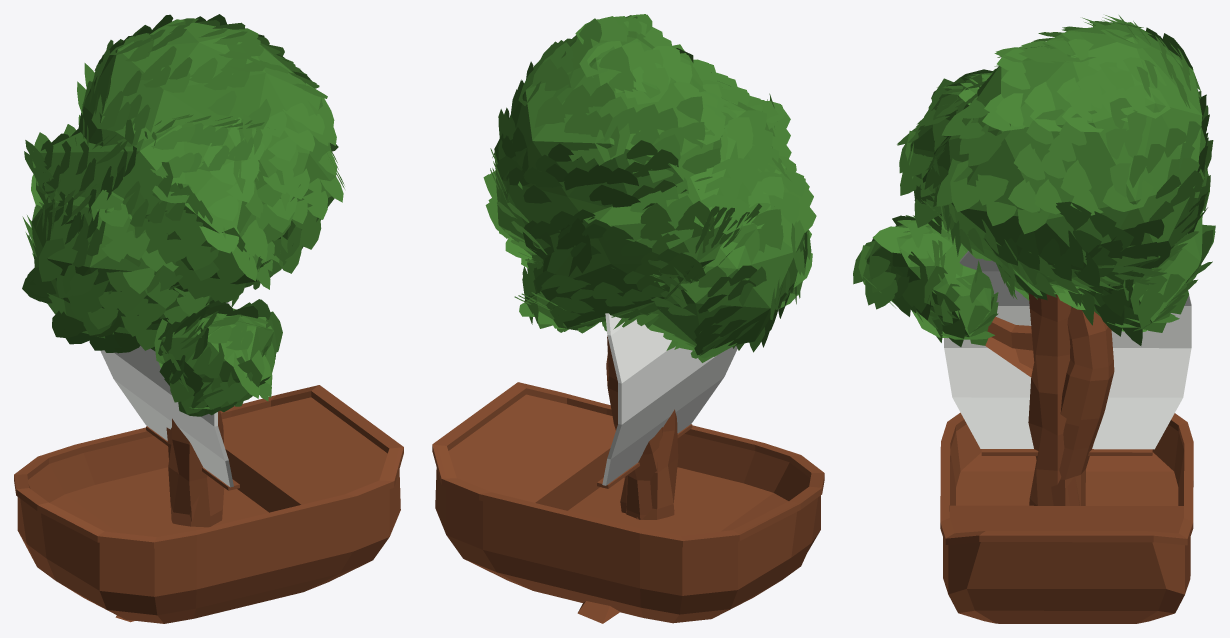
The model's file is tree2.glb.
3 views of the same model, side by side, from view 1: azimuth 30°, elevation 25°; view 2: azimuth 150°, elevation 25°; view 3: azimuth 270°, elevation 25° (orthographic). The views are drawn at different scales.
Parts seen in each view (by area): view 1: КОРАБЛ, foliage.001, foliage.002, Cylinder.001, particle (×3), particle.001 (×2); view 2: КОРАБЛ, foliage.001, foliage.002, particle (×6), Cylinder.002, Cylinder.001, particle.001 (×3); view 3: КОРАБЛ, foliage.001, Cylinder.002, Cylinder.001, particle (×13), foliage.002, particle.001 (×5).
Part boxes in pixels (box(x1,y1,x2,y2)): КОРАБЛ: box(14, 300, 403, 623); foliage.001: box(31, 19, 336, 338); foliage.002: box(36, 125, 273, 390); Cylinder.001: box(168, 411, 224, 527); particle (×3): box(39, 190, 154, 293); particle.001 (×2): box(167, 143, 239, 234); КОРАБЛ: box(432, 313, 824, 623); foliage.001: box(494, 31, 807, 350); foliage.002: box(524, 87, 790, 327); particle (×6): box(589, 46, 759, 311); Cylinder.002: box(577, 336, 666, 623); Cylinder.001: box(620, 409, 678, 519); particle.001 (×3): box(569, 123, 753, 273); КОРАБЛ: box(940, 251, 1193, 623); foliage.001: box(937, 22, 1202, 290); Cylinder.002: box(987, 307, 1114, 505); Cylinder.001: box(985, 293, 1079, 505); particle (×13): box(950, 84, 1170, 234); foliage.002: box(866, 72, 1202, 336); particle.001 (×5): box(872, 226, 1188, 345).
Size of the model in its own units: 3.21 by 5.01 by 2.93.
1 material, 1 textured.
